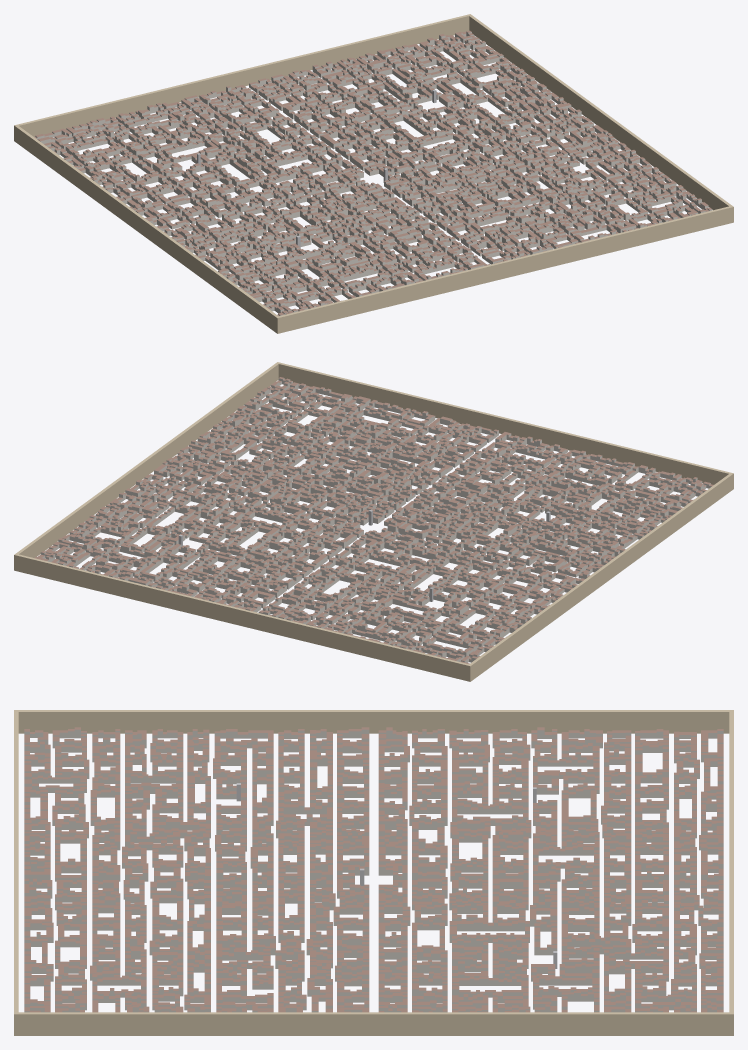
The model's file is district.glb.
The picture shows the model from 3 angles, top to bottom: view 1: azimuth 30°, elevation 25°; view 2: azimuth 150°, elevation 25°; view 3: azimuth 270°, elevation 25°; orthographic projection. The views are drawn at different scales.
Visible parts, largest first — view 1: district_wall, district_building_c03_04, district_building_c02_04, district_building_c03_01, district_building_c05_04, district_building_c04_04, district_building_c03_02, district_building_c05_02, district_building_c04_03, district_building_c05_03, district_building_c01_04, district_building_c02_01 (+25 smaller); view 2: district_wall, district_building_c03_04, district_building_c03_01, district_building_c02_04, district_building_c05_04, district_building_c04_03, district_building_c04_04, district_building_c05_03, district_building_c02_01, district_building_c01_04, district_building_c03_03, district_building_c02_03 (+25 smaller); view 3: district_wall, district_building_c03_01, district_building_c02_04, district_building_c00_01, district_building_c02_01, district_building_c00_04, district_building_c03_02, district_building_c00_05, district_building_c00_02, district_building_c04_03, district_building_c03_00, district_building_c04_00 (+25 smaller).
Part boxes in pixels (left/top/right/bottom): district_wall: left=14, top=14, right=733, bottom=333; district_building_c03_04: left=419, top=190, right=536, bottom=243; district_building_c02_04: left=341, top=207, right=457, bottom=259; district_building_c03_01: left=290, top=95, right=401, bottom=149; district_building_c05_04: left=570, top=157, right=683, bottom=206; district_building_c04_04: left=490, top=173, right=604, bottom=223; district_building_c03_02: left=335, top=128, right=447, bottom=176; district_building_c05_02: left=480, top=92, right=593, bottom=143; district_building_c04_03: left=452, top=142, right=562, bottom=191; district_building_c05_03: left=525, top=125, right=638, bottom=177; district_building_c01_04: left=266, top=227, right=385, bottom=276; district_building_c02_01: left=212, top=115, right=327, bottom=164; district_wall: left=14, top=362, right=733, bottom=681; district_building_c03_04: left=343, top=444, right=456, bottom=497; district_building_c03_01: left=211, top=538, right=327, bottom=591; district_building_c02_04: left=419, top=462, right=531, bottom=516; district_building_c05_04: left=197, top=406, right=312, bottom=459; district_building_c04_03: left=229, top=460, right=336, bottom=508; district_building_c04_04: left=270, top=427, right=382, bottom=479; district_building_c05_03: left=154, top=440, right=268, bottom=491; district_building_c02_01: left=291, top=557, right=404, bottom=610; district_building_c01_04: left=492, top=479, right=599, bottom=532; district_building_c03_03: left=301, top=475, right=413, bottom=525; district_building_c02_03: left=384, top=495, right=490, bottom=545; district_wall: left=14, top=710, right=733, bottom=1035; district_building_c03_01: left=492, top=877, right=610, bottom=931; district_building_c02_04: left=134, top=826, right=258, bottom=881; district_building_c00_01: left=492, top=727, right=612, bottom=783; district_building_c02_01: left=492, top=826, right=613, bottom=881; district_building_c00_04: left=134, top=729, right=258, bottom=784; district_building_c03_02: left=378, top=877, right=493, bottom=931; district_building_c00_05: left=24, top=727, right=137, bottom=783; district_building_c00_02: left=378, top=727, right=489, bottom=784; district_building_c04_03: left=252, top=925, right=369, bottom=981; district_building_c03_00: left=609, top=877, right=723, bottom=931; district_building_c04_00: left=609, top=924, right=723, bottom=981.
Size of what is drawn, in the model's own units: 1520 by 50 by 1520.
